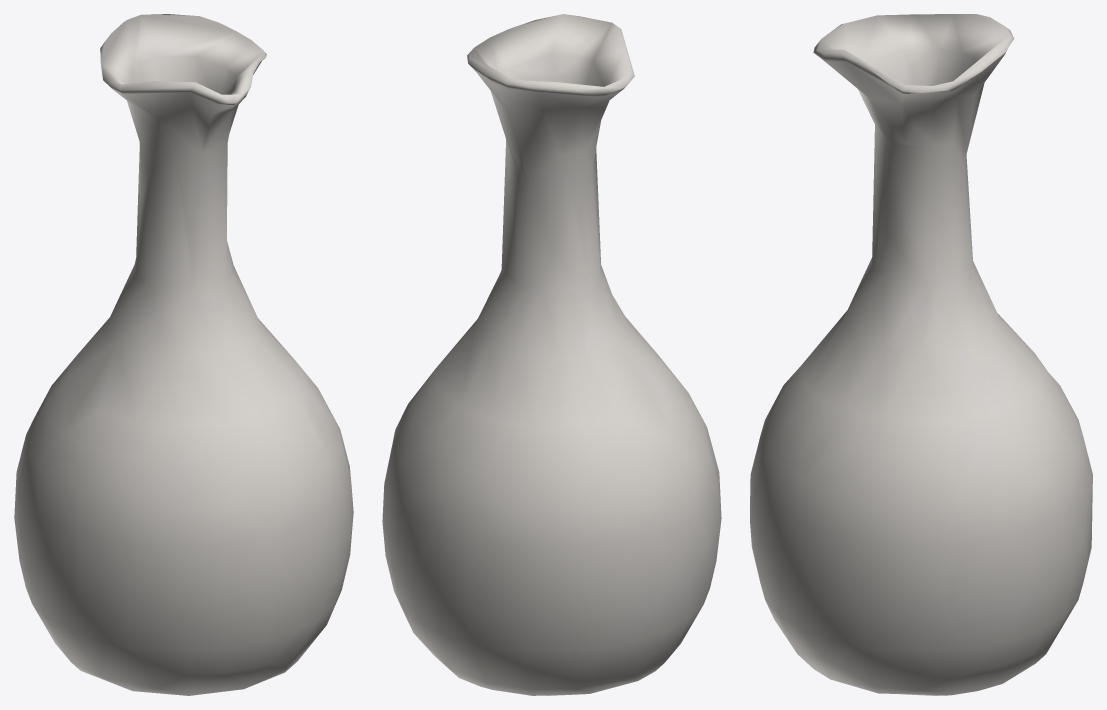
The model's file is ceramic_vase_01.glb.
3 views of the same model, side by side, from view 1: azimuth 30°, elevation 25°; view 2: azimuth 150°, elevation 25°; view 3: azimuth 270°, elevation 25° (orthographic).
Parts seen in each view (by area): view 1: ceramic_vase_01; view 2: ceramic_vase_01; view 3: ceramic_vase_01.
Part boxes in pixels (left/top/right/bottom): ceramic_vase_01: left=14, top=14, right=353, bottom=695; ceramic_vase_01: left=382, top=14, right=721, bottom=695; ceramic_vase_01: left=750, top=14, right=1092, bottom=695.
Bounding box in the file's own units: 0.2022 × 0.3999 × 0.2018.
Materials: 1 (1 with a texture image).
